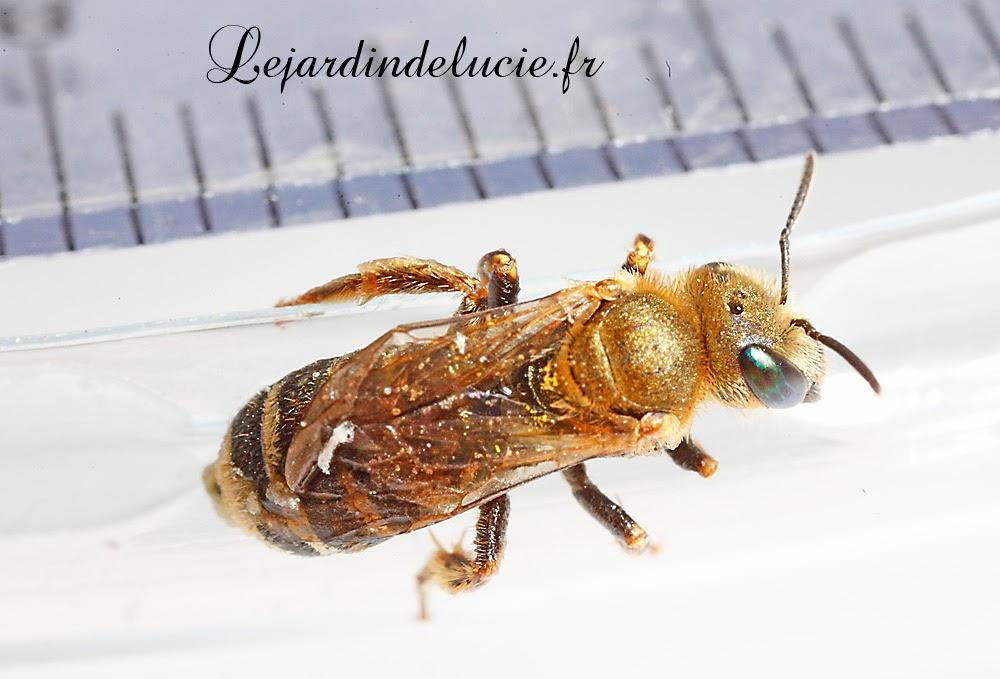Lasioglossum: (219, 146, 895, 602)
